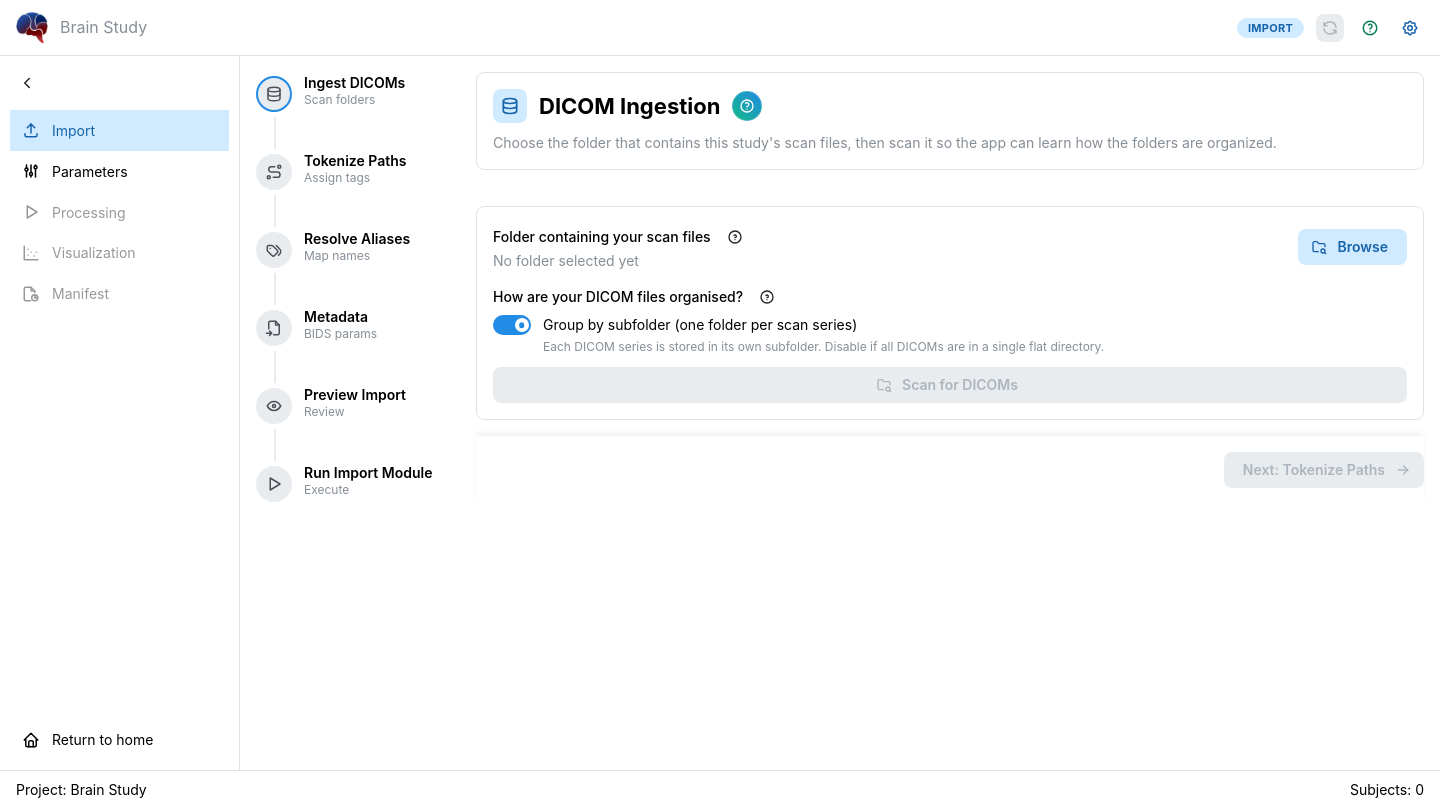
Test case: Layout › returns to the landing page immediately when leaving a clean project
Expected: the button with test id "layout-nav-import" is shown, x1=10 y1=110 x2=229 y2=151
Step 1. Click the button "Return to home" → point(120, 740), box x1=10 y1=719 x2=229 y2=760
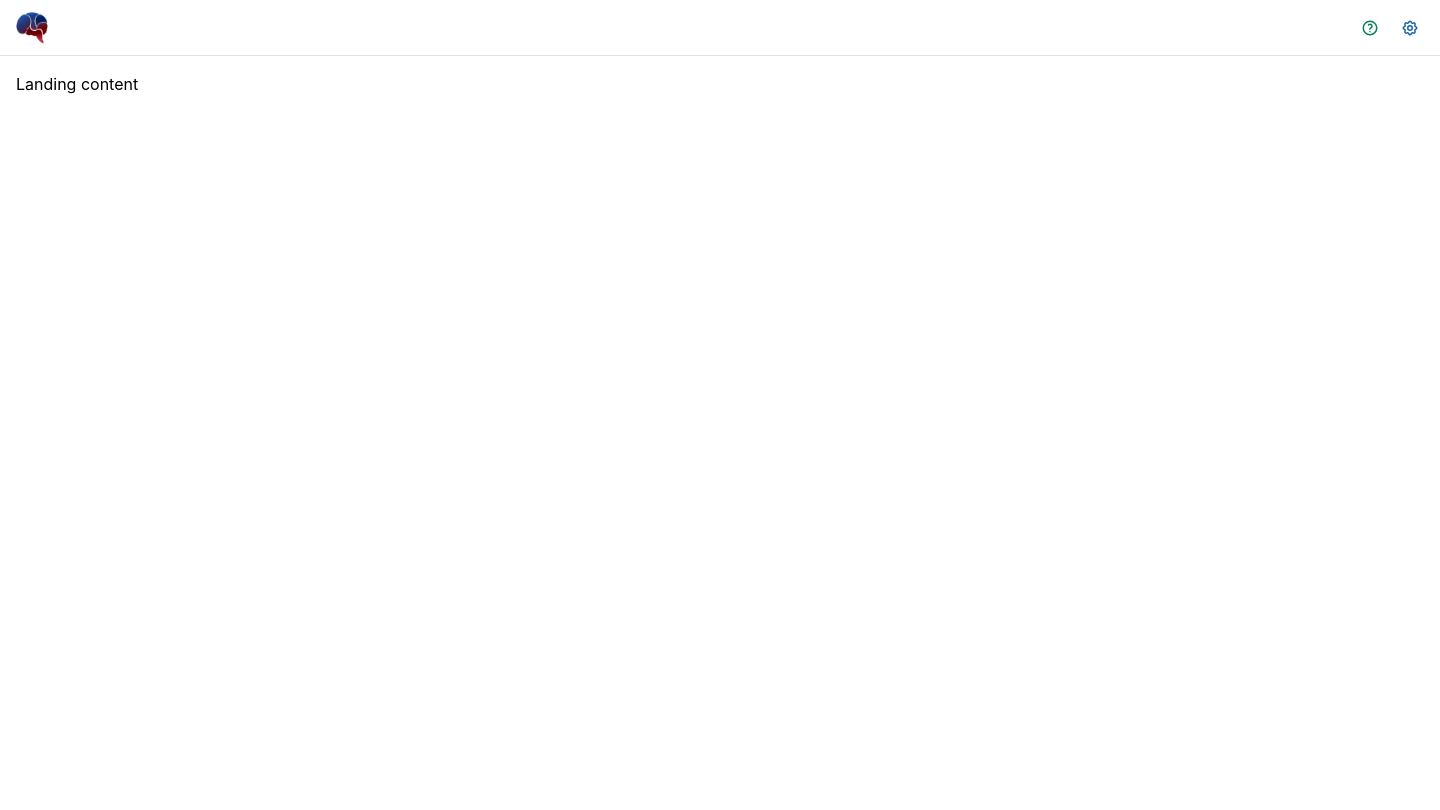
Now the text "Landing content" is shown, box x1=16 y1=74 x2=138 y2=94
Now no buttons with test id "layout-nav-import" are shown
Now no buttons with test id "layout-nav-home" are shown
